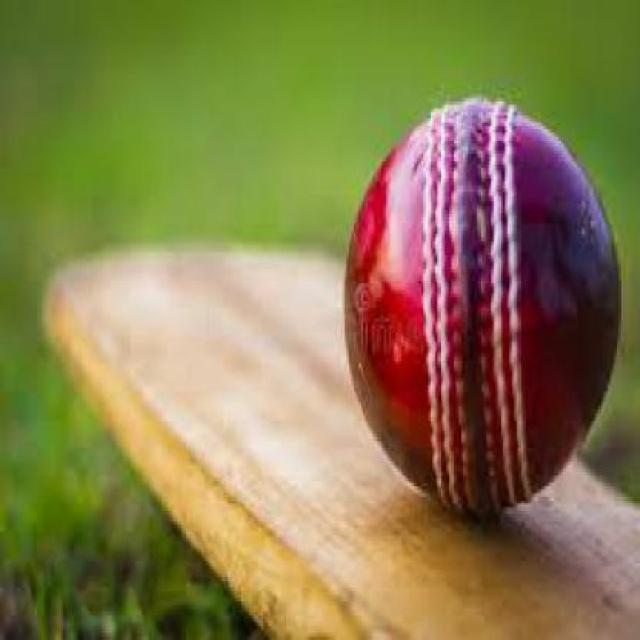ball: (306, 85, 640, 500)
